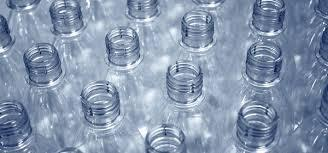Plastic bottle: (1, 1, 327, 150)
